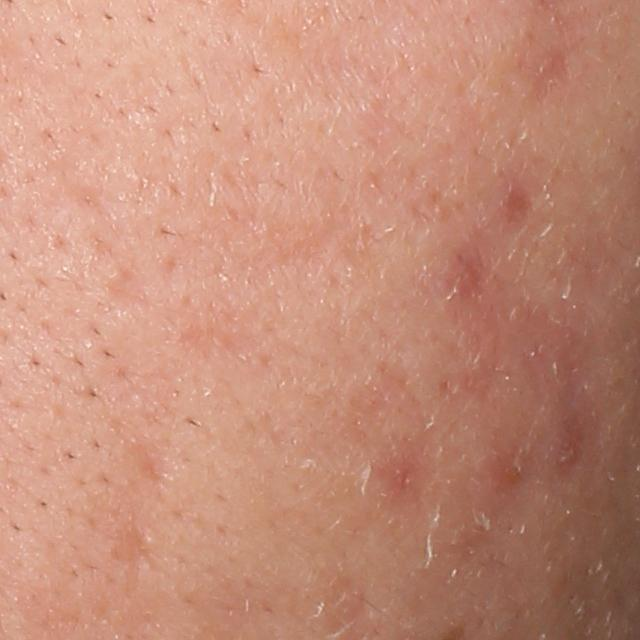atrophic_scar: (104, 508, 172, 599), (112, 420, 182, 494), (103, 249, 153, 318)
